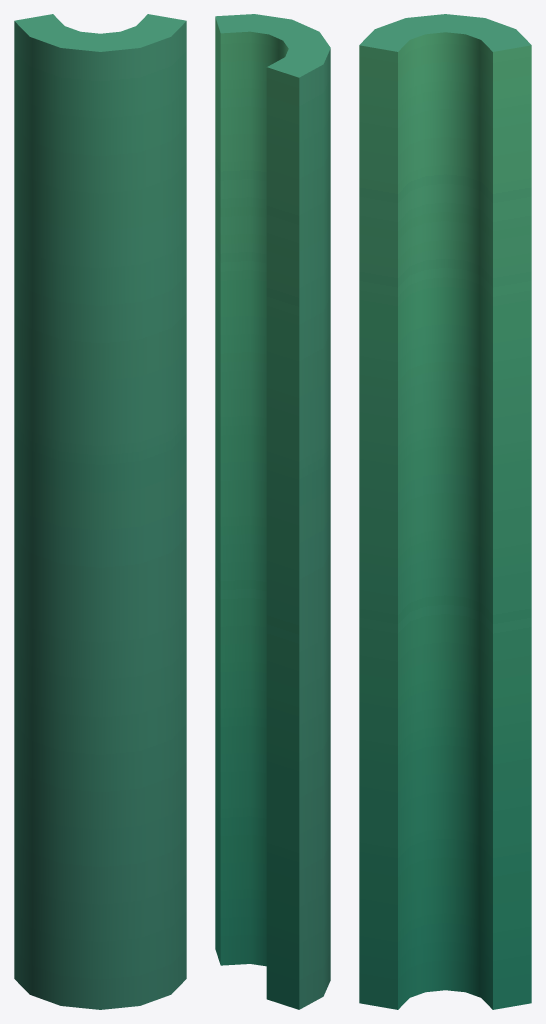
Rendered from selleri.glb.
The picture shows the model from 3 angles, left to right: view 1: azimuth 90°, elevation 25°; view 2: azimuth 210°, elevation 25°; view 3: azimuth 270°, elevation 25°; orthographic projection. The views are drawn at different scales.
Parts seen in each view (by area): view 1: celery-stick; view 2: celery-stick; view 3: celery-stick.
Boxes of the visible parts, x1,y1,x2,y2 form: celery-stick: (14,14,186,1009); celery-stick: (215,14,330,1009); celery-stick: (359,14,531,1009).
Bounding box in the file's own units: 0.0459 × 0.54 × 0.0882.
1 material, 1 textured.
